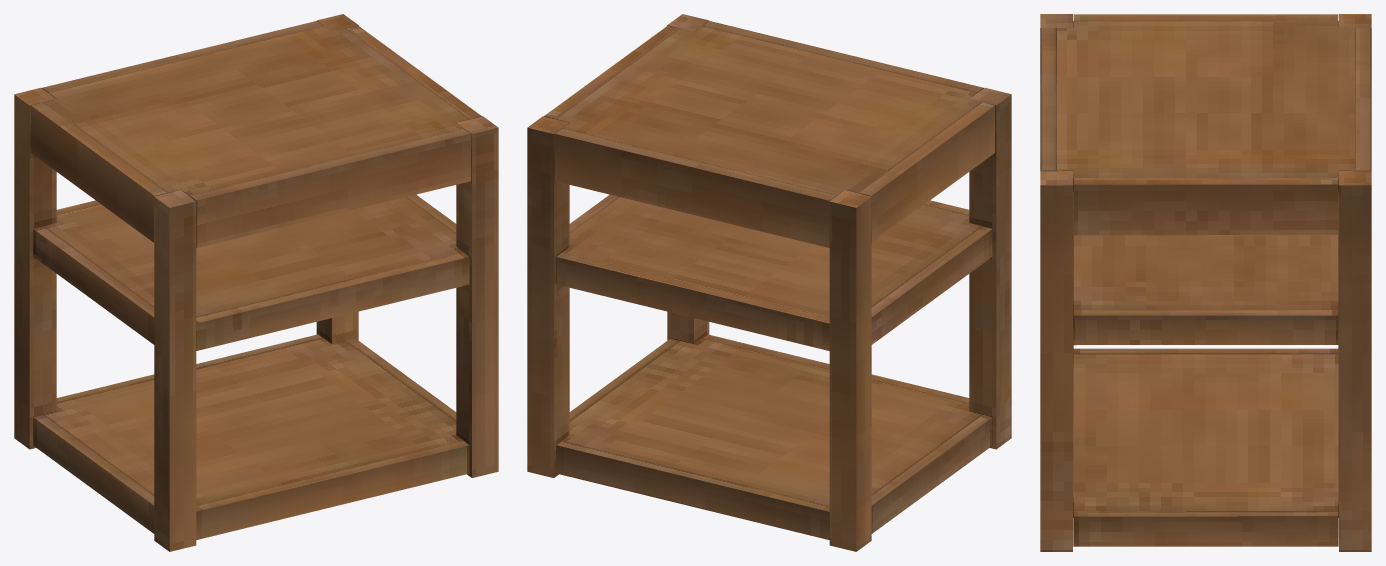
Rendered from side_table_01.glb.
3 views of the same model, side by side, from view 1: azimuth 30°, elevation 25°; view 2: azimuth 150°, elevation 25°; view 3: azimuth 270°, elevation 25° (orthographic). The views are drawn at different scales.
Parts seen in each view (by area): view 1: side_table_01; view 2: side_table_01; view 3: side_table_01.
Boxes of the visible parts, x1,y1,x2,y2 form: side_table_01: (14, 14, 498, 551); side_table_01: (527, 14, 1011, 551); side_table_01: (1040, 14, 1371, 551).
Size of the model in its own units: 0.5488 by 0.5507 by 0.4488.
1 material, 1 textured.
